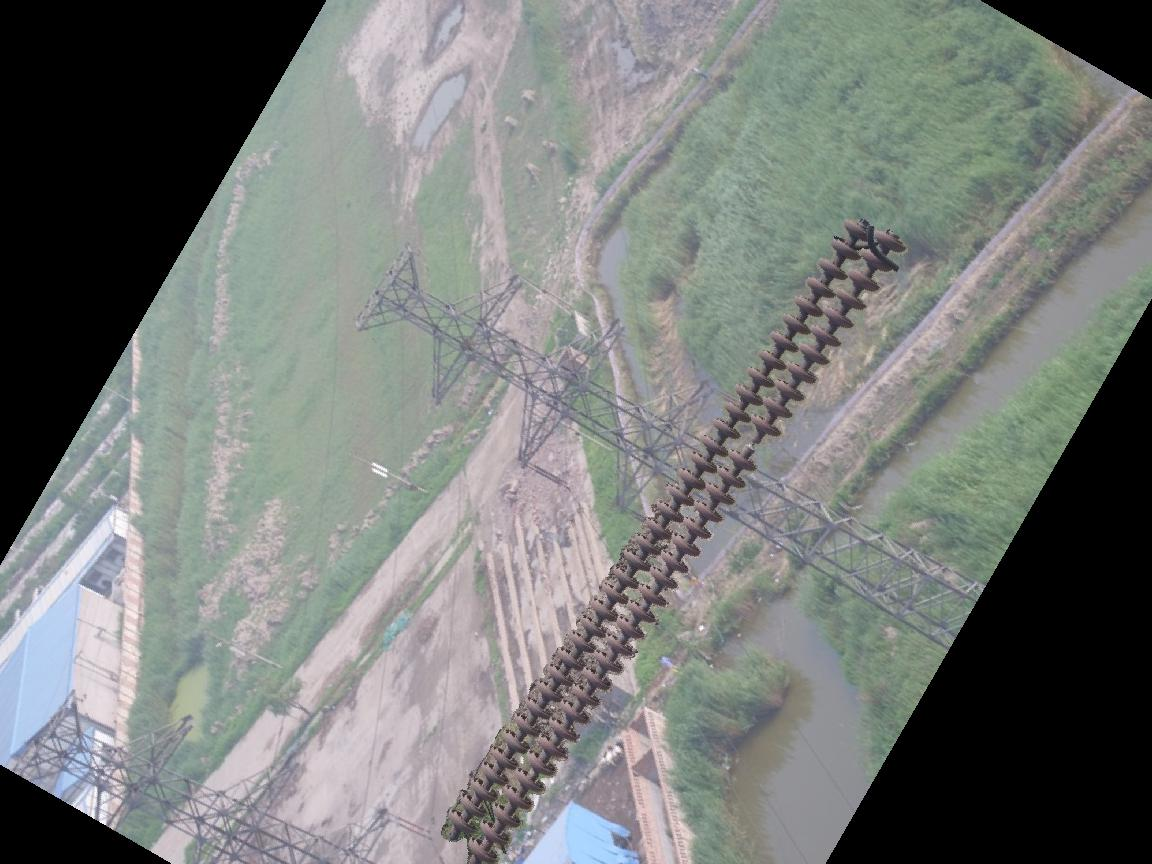insulator: (443, 211, 906, 860)
insulator_stringdrop: (724, 411, 783, 474)
